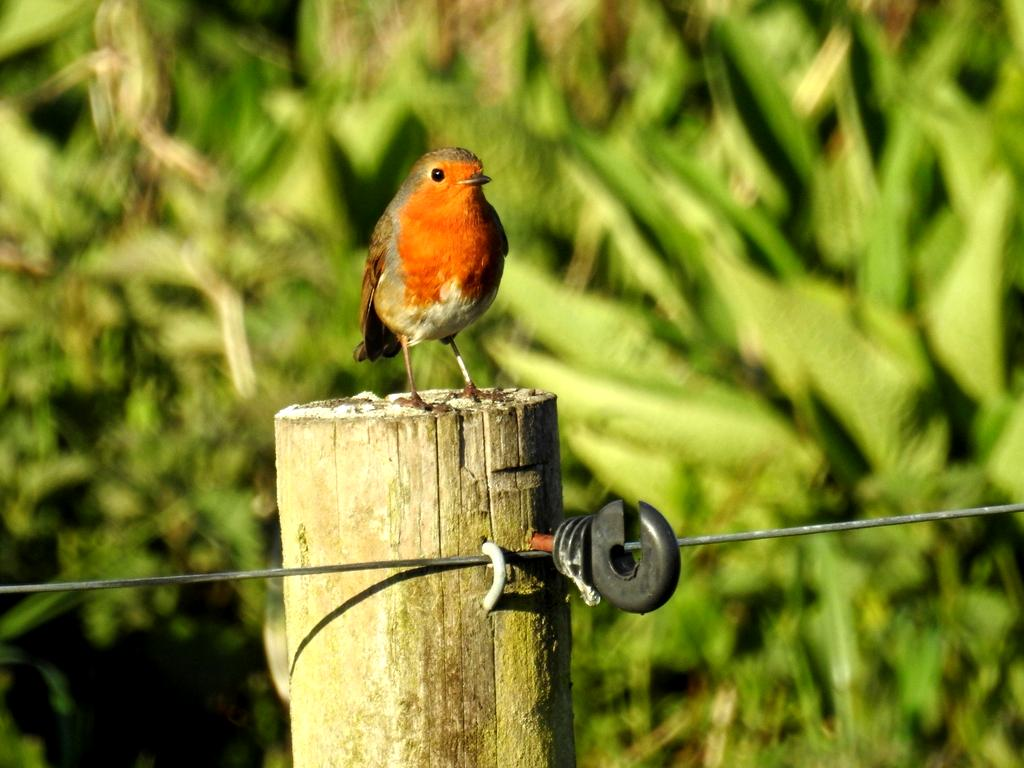ErithacusRubecula: (353, 146, 509, 408)
